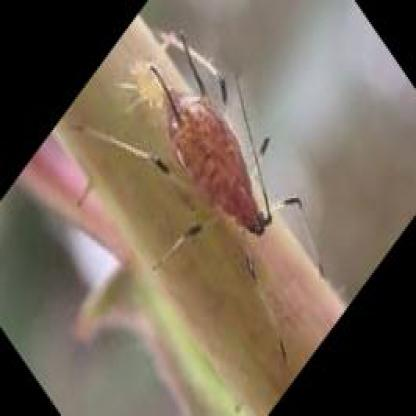uroleucon compositae: (150, 35, 274, 238)
